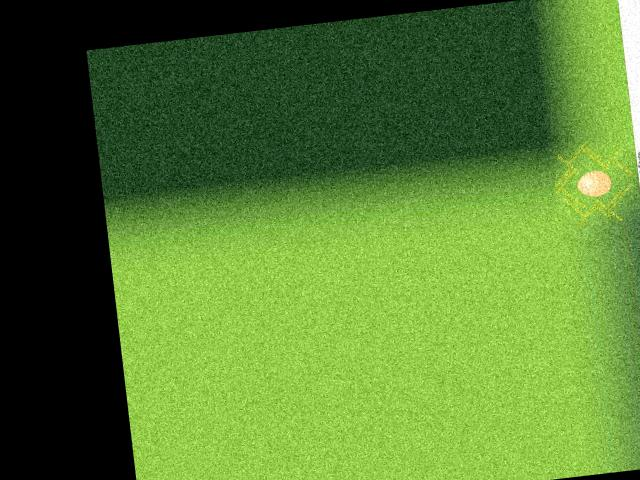egg: (575, 169, 612, 198)
